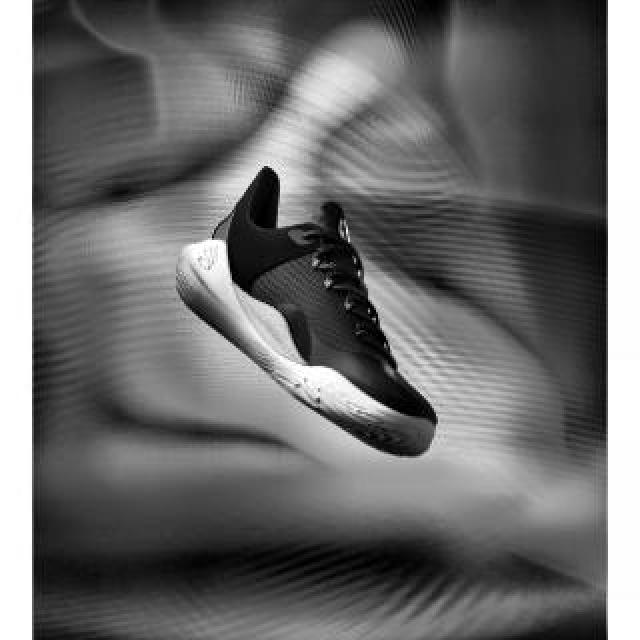shoe: (175, 167, 437, 457)
